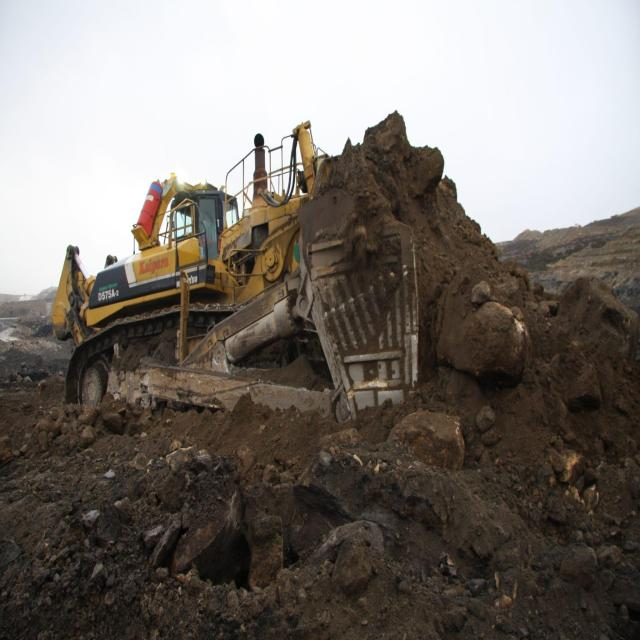buldozerpayloadergrader: (36, 100, 443, 480)
